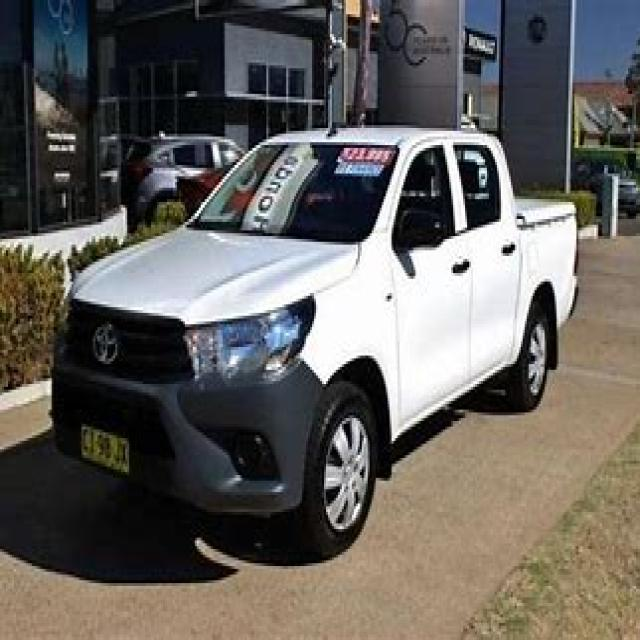light_vehicle: (40, 102, 610, 555)
